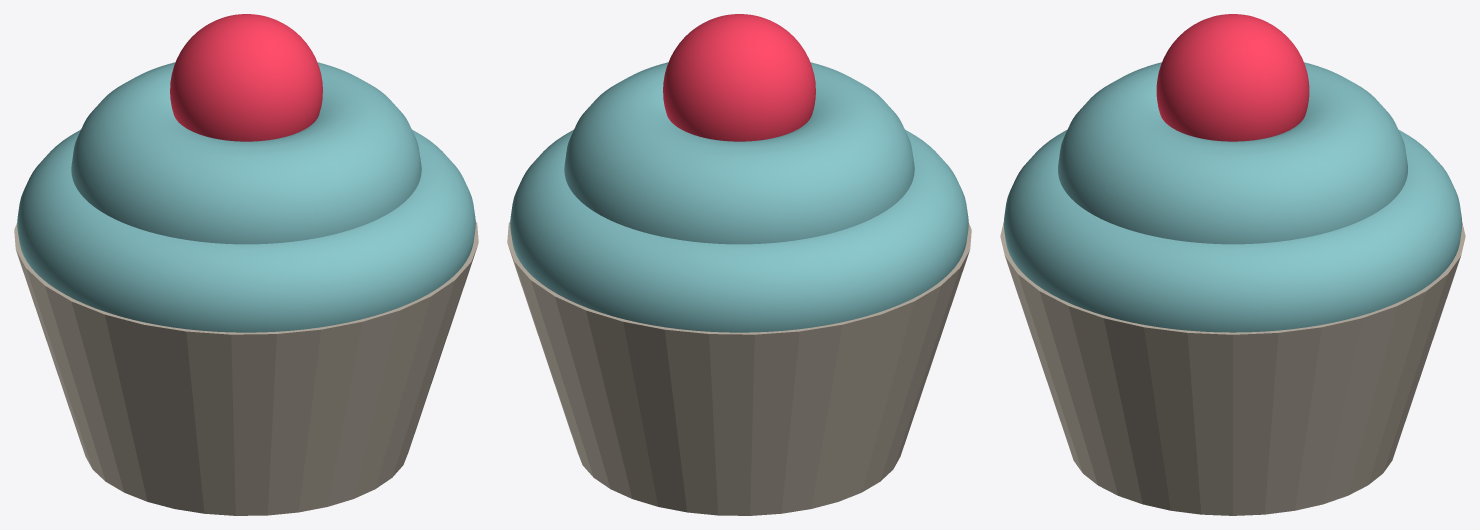
File: Cupcake.fbx
3 views of the same model, side by side, from view 1: azimuth 30°, elevation 25°; view 2: azimuth 150°, elevation 25°; view 3: azimuth 270°, elevation 25° (orthographic).
Parts seen in each view (by area): view 1: Cylinder, Torus, Torus.001, Sphere; view 2: Cylinder, Torus, Torus.001, Sphere; view 3: Cylinder, Torus, Torus.001, Sphere.
Part boxes in pixels (x1,y1,x2,y2): Cylinder: (14, 221, 478, 515); Torus: (17, 129, 475, 332); Torus.001: (71, 62, 421, 244); Sphere: (170, 14, 322, 141); Cylinder: (507, 221, 971, 515); Torus: (510, 129, 968, 332); Torus.001: (564, 62, 914, 244); Sphere: (663, 14, 815, 141); Cylinder: (1000, 221, 1465, 515); Torus: (1003, 129, 1462, 332); Torus.001: (1058, 62, 1407, 244); Sphere: (1156, 14, 1309, 141).
Bounding box in the file's own units: 300 × 303 × 300.
